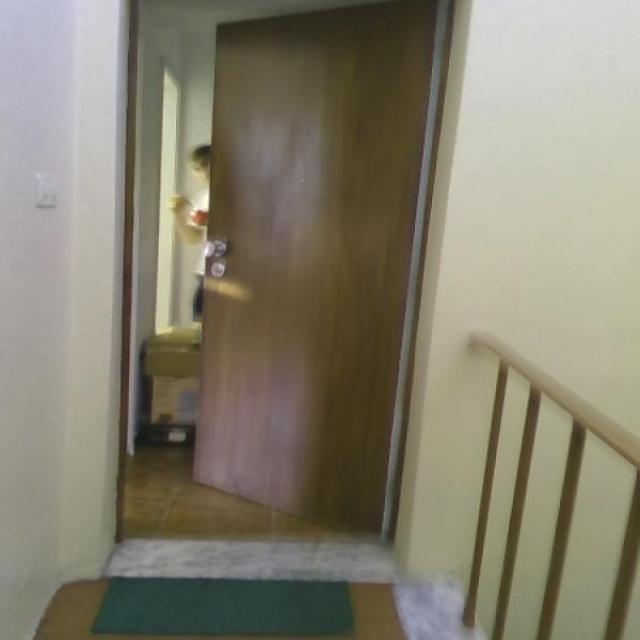door: (190, 0, 452, 539)
